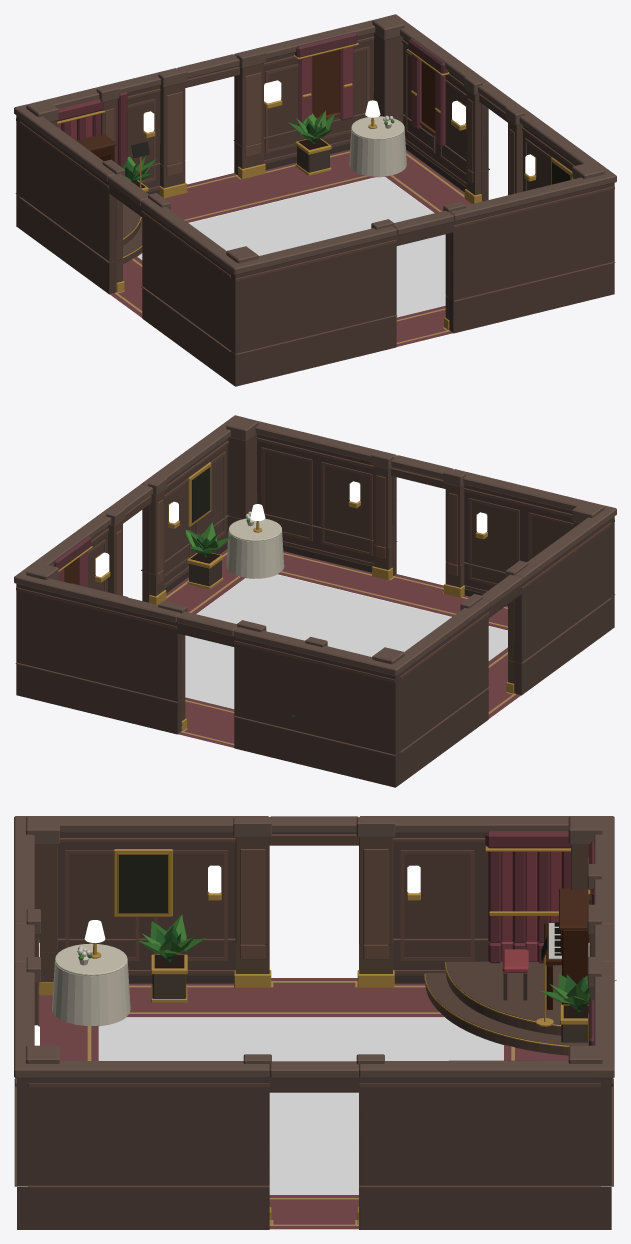
The model's file is ballroom.glb.
3 views of the same model, one above another, from view 1: azimuth 30°, elevation 25°; view 2: azimuth 150°, elevation 25°; view 3: azimuth 270°, elevation 25° (orthographic). The views are drawn at different scales.
Visible parts, largest first — view 1: static, floor, W_south_0_up, W_south_1_up, W_north_1_up, W_north_0_up, W_west_0_up, W_east_0_up, W_west_1_up, W_east_1_up; view 2: static, floor, W_north_0_up, W_north_1_up, W_south_1_up, W_south_0_up, W_west_0_up, W_west_1_up, W_east_1_up, W_east_0_up; view 3: static, floor, W_east_0_up, W_east_1_up, W_west_0_up, W_west_1_up, W_south_0_up, W_north_0_up, W_north_1_up, W_south_1_up.
Boxes of the visible parts, bbox=[...] form: static: bbox=[15, 92, 615, 386]; floor: bbox=[110, 149, 471, 346]; W_south_0_up: bbox=[226, 210, 453, 353]; W_south_1_up: bbox=[443, 162, 616, 300]; W_north_1_up: bbox=[234, 15, 404, 146]; W_north_0_up: bbox=[14, 54, 239, 196]; W_west_0_up: bbox=[14, 104, 148, 262]; W_east_0_up: bbox=[385, 14, 522, 173]; W_west_1_up: bbox=[141, 193, 246, 350]; W_east_1_up: bbox=[505, 105, 616, 195]; static: bbox=[15, 493, 615, 787]; floor: bbox=[165, 549, 520, 747]; W_north_0_up: bbox=[177, 611, 404, 754]; W_north_1_up: bbox=[14, 563, 187, 701]; W_south_1_up: bbox=[226, 416, 396, 547]; W_south_0_up: bbox=[391, 455, 616, 597]; W_west_0_up: bbox=[384, 574, 522, 751]; W_west_1_up: bbox=[505, 505, 616, 662]; W_east_1_up: bbox=[141, 415, 245, 574]; W_east_0_up: bbox=[14, 484, 152, 595]; static: bbox=[14, 888, 616, 1229]; floor: bbox=[39, 978, 568, 1229]; W_east_0_up: bbox=[269, 1054, 614, 1185]; W_east_1_up: bbox=[14, 1054, 271, 1185]; W_west_0_up: bbox=[269, 816, 614, 944]; W_west_1_up: bbox=[14, 816, 271, 944]; W_south_0_up: bbox=[14, 816, 59, 986]; W_north_0_up: bbox=[568, 816, 614, 962]; W_north_1_up: bbox=[568, 957, 614, 1185]; W_south_1_up: bbox=[14, 957, 59, 1185].
Size of the model in its own units: 8.08 by 2.48 by 8.11.
